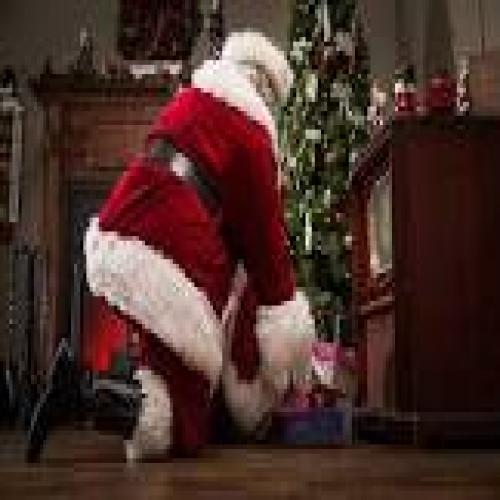Santa: (27, 13, 316, 471)
